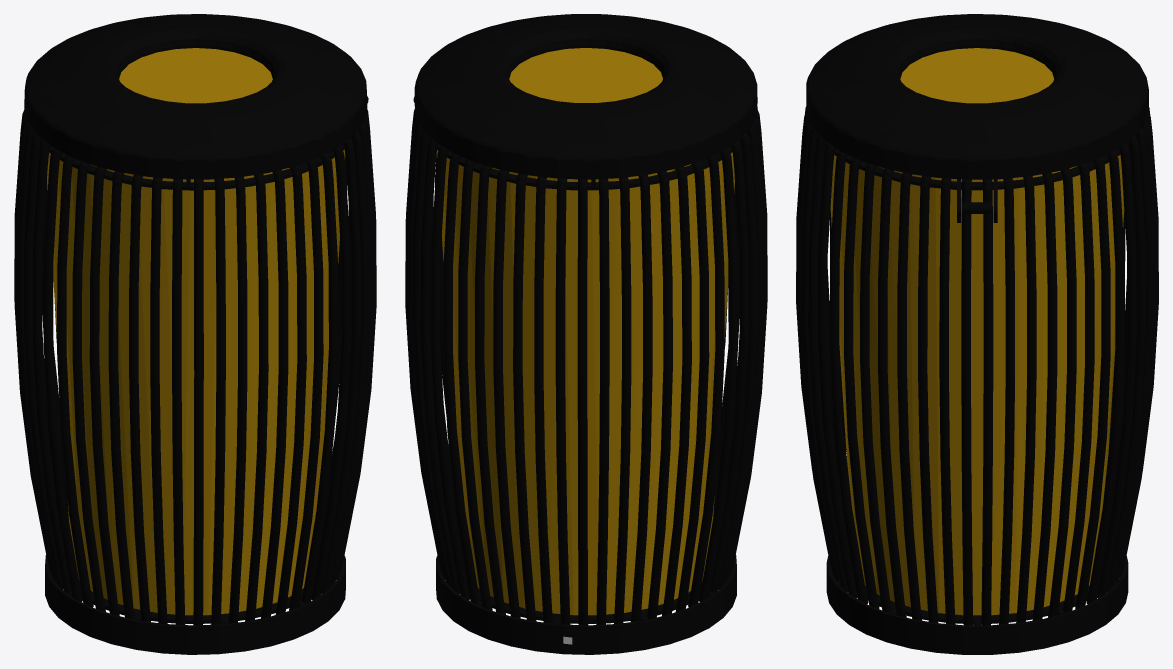
3 views of the same model, side by side, from view 1: azimuth 30°, elevation 25°; view 2: azimuth 150°, elevation 25°; view 3: azimuth 270°, elevation 25° (orthographic).
Visible parts, largest first — view 1: mesh45.002_mesh45-geometry, mesh9.002_mesh9-geometry, mesh43.002_mesh43-geometry, mesh1.062_mesh1-geometry, mesh1.092_mesh1-geometry, mesh1.095_mesh1-geometry, mesh1.054_mesh1-geometry, mesh1.096_mesh1-geometry, mesh1.061_mesh1-geometry, mesh1.053_mesh1-geometry, mesh1.063_mesh1-geometry, mesh1.093_mesh1-geometry (+20 smaller); view 2: mesh45.002_mesh45-geometry, mesh9.002_mesh9-geometry, mesh43.002_mesh43-geometry, mesh1.077_mesh1-geometry, mesh1.091_mesh1-geometry, mesh1.085_mesh1-geometry, mesh1.084_mesh1-geometry, mesh1.081_mesh1-geometry, mesh1.078_mesh1-geometry, mesh1.089_mesh1-geometry, mesh1.090_mesh1-geometry, mesh1.051_mesh1-geometry (+20 smaller); view 3: mesh45.002_mesh45-geometry, mesh9.002_mesh9-geometry, mesh43.002_mesh43-geometry, mesh1.072_mesh1-geometry, mesh1.097_mesh1-geometry, mesh1.076_mesh1-geometry, mesh1.073_mesh1-geometry, mesh1.100_mesh1-geometry, mesh1.065_mesh1-geometry, mesh1.096_mesh1-geometry, mesh1.077_mesh1-geometry, mesh1.075_mesh1-geometry (+19 smaller).
Boxes of the visible parts, x1=… form: mesh45.002_mesh45-geometry: x1=47, y1=48, x2=345, y2=615; mesh9.002_mesh9-geometry: x1=24, y1=14, x2=367, y2=179; mesh43.002_mesh43-geometry: x1=45, y1=555, x2=345, y2=654; mesh1.062_mesh1-geometry: x1=43, y1=148, x2=82, y2=601; mesh1.092_mesh1-geometry: x1=261, y1=170, x2=288, y2=618; mesh1.095_mesh1-geometry: x1=301, y1=153, x2=338, y2=603; mesh1.054_mesh1-geometry: x1=108, y1=171, x2=134, y2=618; mesh1.096_mesh1-geometry: x1=311, y1=146, x2=351, y2=600; mesh1.061_mesh1-geometry: x1=245, y1=174, x2=268, y2=621; mesh1.053_mesh1-geometry: x1=89, y1=166, x2=119, y2=616; mesh1.063_mesh1-geometry: x1=57, y1=155, x2=93, y2=607; mesh1.093_mesh1-geometry: x1=275, y1=165, x2=306, y2=614; mesh45.002_mesh45-geometry: x1=436, y1=48, x2=734, y2=615; mesh9.002_mesh9-geometry: x1=414, y1=14, x2=757, y2=179; mesh43.002_mesh43-geometry: x1=436, y1=555, x2=736, y2=654; mesh1.077_mesh1-geometry: x1=430, y1=146, x2=469, y2=599; mesh1.091_mesh1-geometry: x1=699, y1=148, x2=738, y2=601; mesh1.085_mesh1-geometry: x1=577, y1=179, x2=588, y2=625; mesh1.084_mesh1-geometry: x1=555, y1=178, x2=570, y2=624; mesh1.081_mesh1-geometry: x1=493, y1=170, x2=520, y2=618; mesh1.078_mesh1-geometry: x1=443, y1=153, x2=480, y2=603; mesh1.089_mesh1-geometry: x1=647, y1=171, x2=672, y2=619; mesh1.090_mesh1-geometry: x1=662, y1=166, x2=691, y2=616; mesh1.051_mesh1-geometry: x1=688, y1=155, x2=724, y2=607; mesh45.002_mesh45-geometry: x1=830, y1=48, x2=1124, y2=615; mesh9.002_mesh9-geometry: x1=806, y1=14, x2=1148, y2=179; mesh43.002_mesh43-geometry: x1=826, y1=556, x2=1128, y2=654; mesh1.072_mesh1-geometry: x1=1032, y1=172, x2=1057, y2=620; mesh1.097_mesh1-geometry: x1=829, y1=151, x2=868, y2=603; mesh1.076_mesh1-geometry: x1=1086, y1=150, x2=1124, y2=604; mesh1.073_mesh1-geometry: x1=1048, y1=168, x2=1076, y2=617; mesh1.100_mesh1-geometry: x1=878, y1=168, x2=906, y2=617; mesh1.065_mesh1-geometry: x1=897, y1=172, x2=921, y2=620; mesh1.096_mesh1-geometry: x1=817, y1=143, x2=857, y2=598; mesh1.077_mesh1-geometry: x1=1097, y1=143, x2=1136, y2=598; mesh1.075_mesh1-geometry: x1=1075, y1=157, x2=1110, y2=609.
Size of the model in its own units: 0.4752 by 0.7456 by 0.4671.
